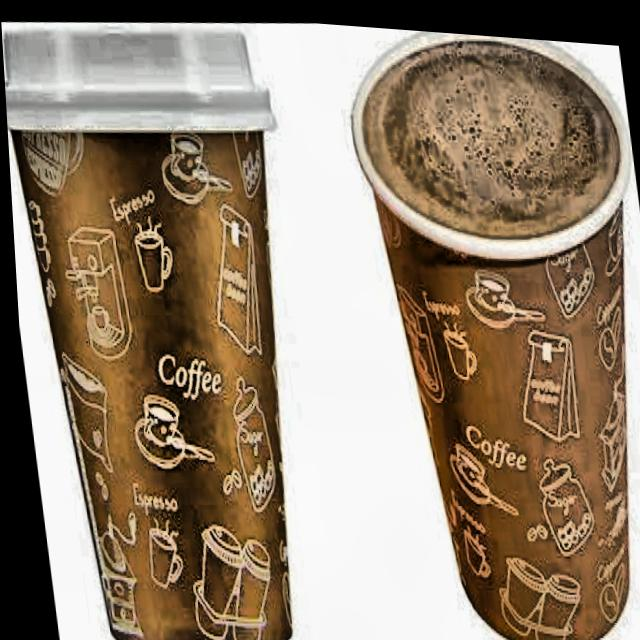Cup: (2, 39, 341, 640), (347, 20, 640, 640)
